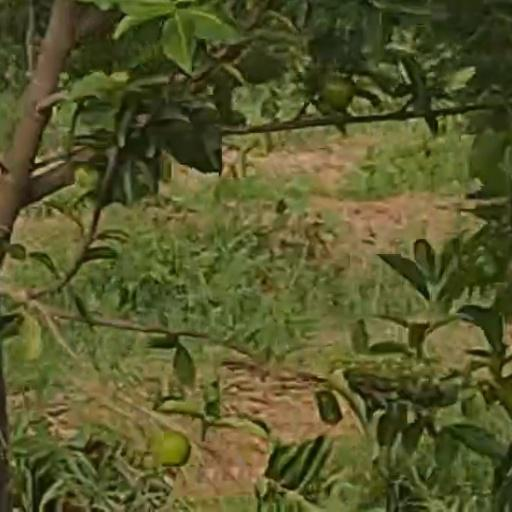acerola_verde: (318, 73, 353, 109), (156, 433, 189, 466)
